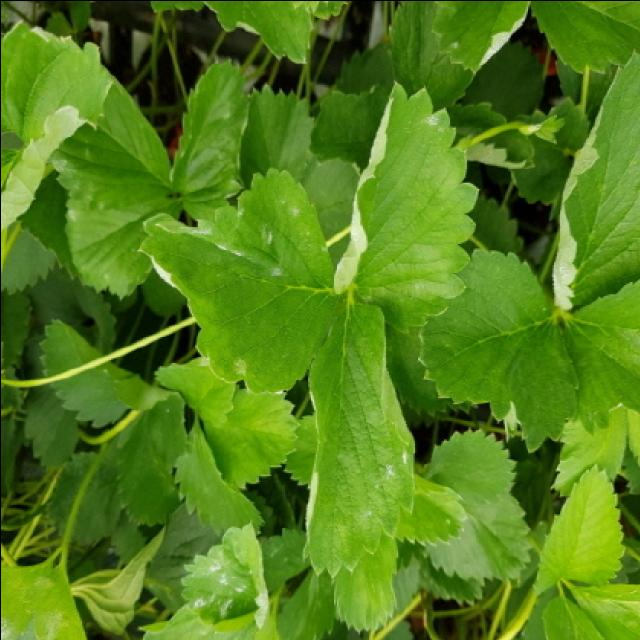Powdery Mildew Leaf: (137, 165, 345, 395), (330, 79, 480, 336), (299, 299, 415, 579), (51, 78, 182, 300), (551, 50, 638, 313), (177, 518, 270, 629), (427, 2, 532, 73)
